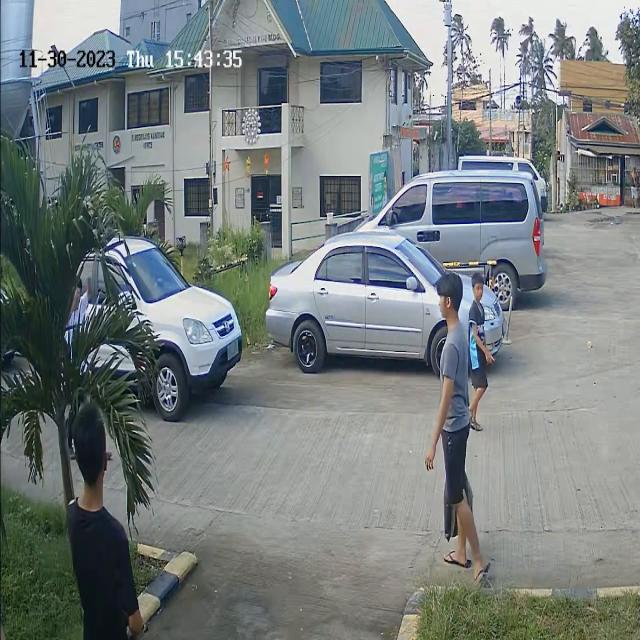person: (65, 414, 135, 640), (426, 277, 491, 401), (12, 45, 41, 73)
